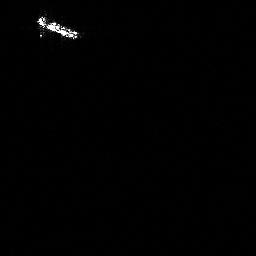ship: (35, 12, 84, 43)
